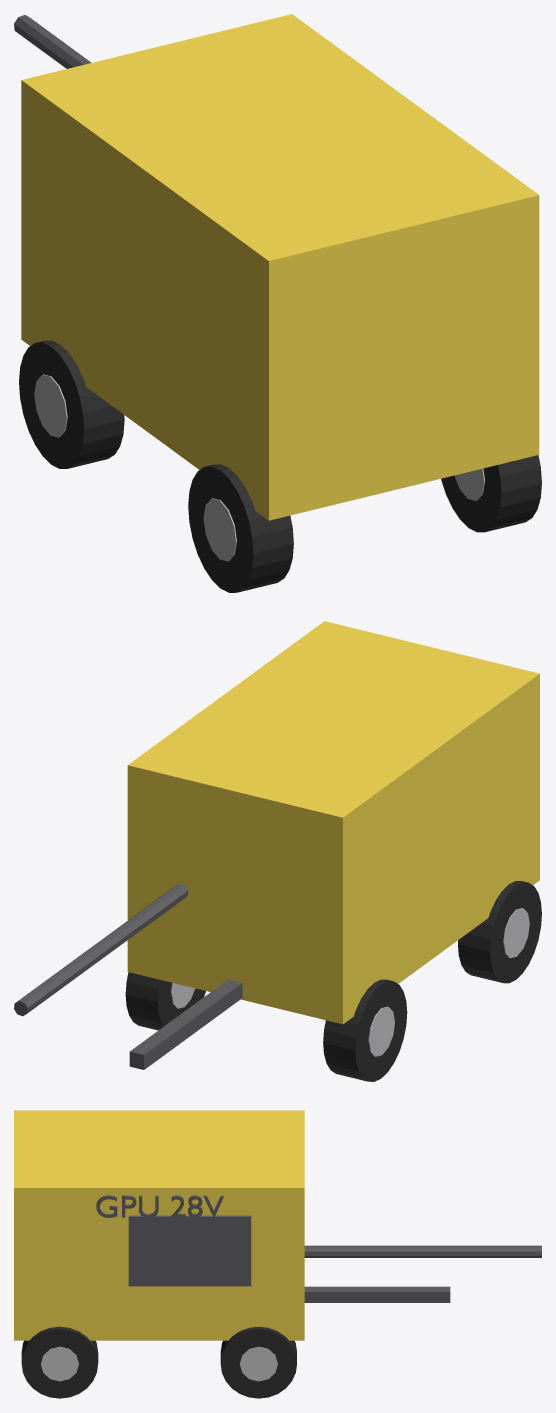
File: gpu.glb
3 views of the same model, one above another, from view 1: azimuth 30°, elevation 25°; view 2: azimuth 150°, elevation 25°; view 3: azimuth 270°, elevation 25° (orthographic). The views are drawn at different scales.
Visible parts, largest first — view 1: body, wheel.001, wheel, wheel.003, cable, hub, hub.001, hub.003; view 2: body, wheel, wheel.001, cable, towbar, wheel.002, hub.001, hub; view 3: body, panel, wheel.003, wheel.002, cable, towbar, Text, hub.002, hub.003.
Boxes of the visible parts, x1=… form: body: x1=21, y1=14, x2=539, y2=520; wheel.001: x1=188, y1=464, x2=293, y2=592; wheel: x1=19, y1=340, x2=124, y2=468; wheel.003: x1=441, y1=455, x2=541, y2=532; cable: x1=14, y1=15, x2=91, y2=68; hub: x1=34, y1=374, x2=67, y2=437; hub.001: x1=203, y1=498, x2=236, y2=561; hub.003: x1=454, y1=468, x2=484, y2=500; body: x1=127, y1=621, x2=539, y2=1024; wheel: x1=323, y1=979, x2=407, y2=1081; wheel.001: x1=458, y1=881, x2=541, y2=983; cable: x1=14, y1=883, x2=188, y2=1016; towbar: x1=129, y1=979, x2=242, y2=1069; wheel.002: x1=125, y1=972, x2=205, y2=1030; hub.001: x1=503, y1=908, x2=529, y2=958; hub: x1=368, y1=1006, x2=394, y2=1056; body: x1=14, y1=1110, x2=304, y2=1340; panel: x1=128, y1=1215, x2=251, y2=1286; wheel.003: x1=21, y1=1326, x2=98, y2=1398; wheel.002: x1=220, y1=1326, x2=296, y2=1398; cable: x1=304, y1=1245, x2=541, y2=1257; towbar: x1=304, y1=1286, x2=450, y2=1302; Text: x1=96, y1=1195, x2=223, y2=1217; hub.002: x1=239, y1=1346, x2=277, y2=1381; hub.003: x1=41, y1=1346, x2=78, y2=1381.
Bounding box in the file's own units: 1.29 × 1.5 × 3.45.
